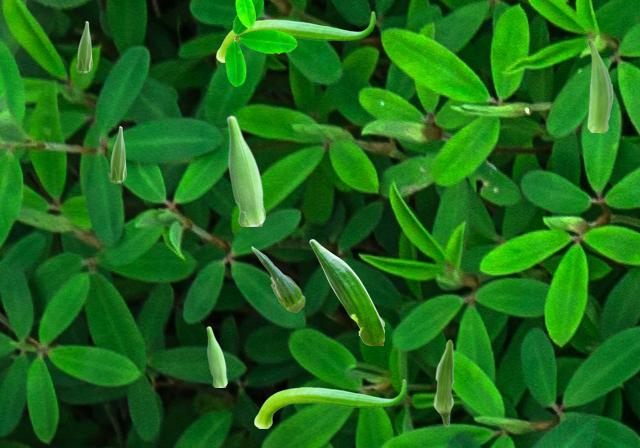okra: (216, 11, 374, 61), (309, 239, 383, 344), (254, 379, 405, 427), (226, 115, 264, 225), (251, 246, 304, 311), (587, 39, 612, 131), (433, 339, 453, 426), (206, 326, 226, 386), (108, 126, 125, 182), (75, 21, 91, 72)
